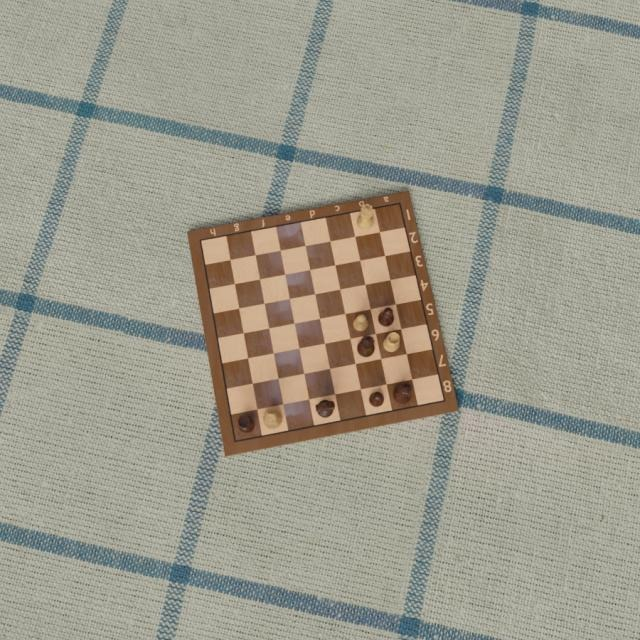black-king: (392, 381, 413, 405)
black-knight: (316, 399, 336, 419)
black-pawn: (377, 307, 394, 327), (368, 392, 384, 408)
black-rook: (237, 414, 256, 434)
white-king: (263, 407, 283, 429)
white-pawn: (351, 312, 368, 331)
white-queen: (357, 204, 375, 232), (357, 335, 375, 358)
white-rook: (382, 331, 402, 353)
